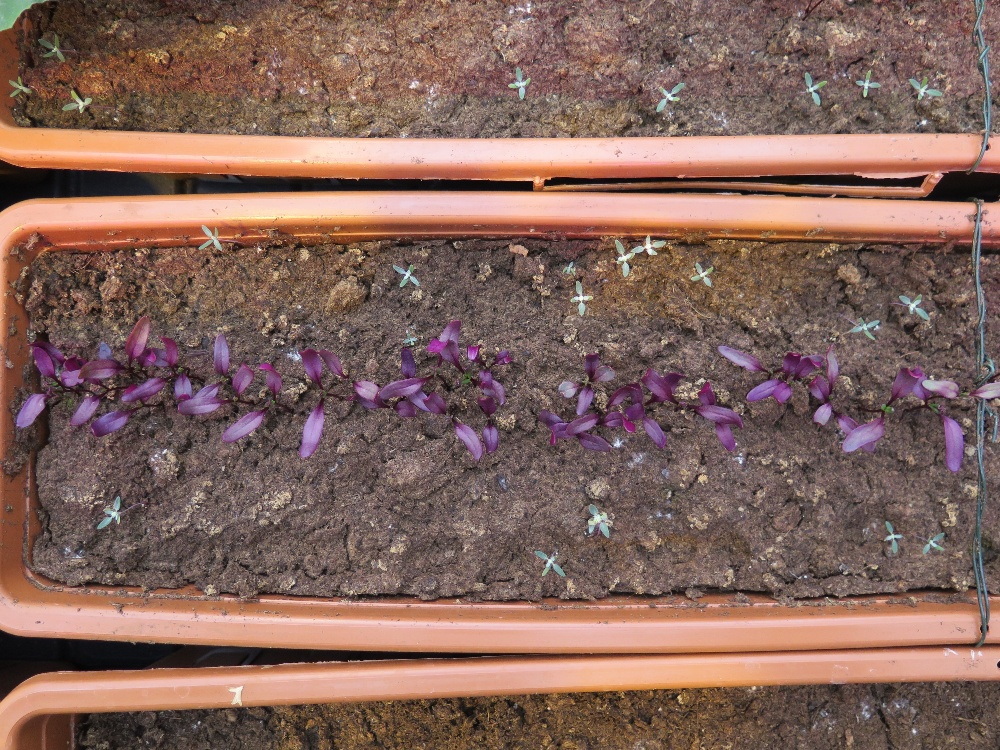crop: (350, 317, 507, 467), (589, 336, 752, 472), (875, 329, 1000, 490), (159, 324, 284, 458), (250, 340, 375, 465), (793, 345, 921, 467), (71, 304, 187, 415), (14, 317, 114, 440), (521, 340, 621, 454), (709, 322, 832, 413), (423, 324, 527, 415)
weed: (639, 54, 696, 129), (373, 242, 439, 304), (55, 76, 112, 136), (834, 56, 896, 111), (666, 242, 727, 297), (496, 61, 555, 115), (552, 263, 605, 322), (512, 536, 575, 583), (605, 238, 659, 292), (891, 292, 952, 336), (632, 217, 680, 270), (896, 74, 955, 117), (841, 304, 884, 354), (800, 61, 837, 115), (189, 222, 234, 263), (34, 24, 71, 67), (587, 501, 623, 540), (921, 520, 955, 561), (1, 61, 37, 99), (880, 511, 905, 563), (98, 497, 125, 529)
